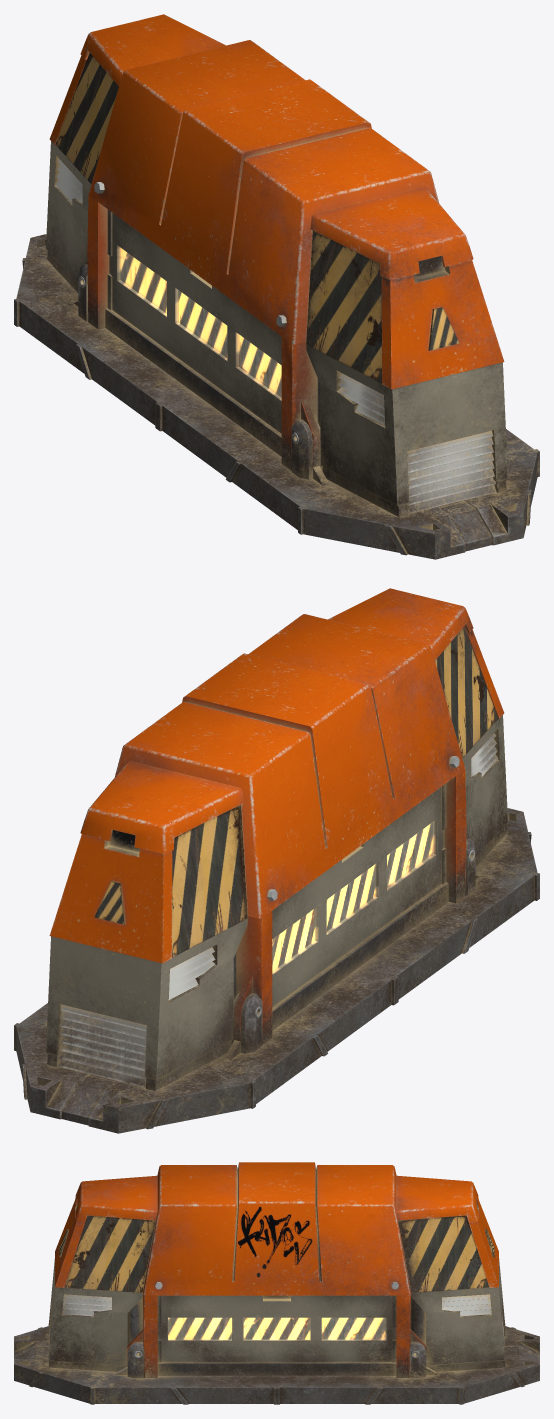
3 views of the same model, one above another, from view 1: azimuth 30°, elevation 25°; view 2: azimuth 150°, elevation 25°; view 3: azimuth 270°, elevation 25° (orthographic). The views are drawn at different scales.
Parts seen in each view (by area): view 1: Block; view 2: Block; view 3: Block.
Boxes of the visible parts, <box> form: Block: <box>14,14,539,559</box>; Block: <box>14,588,539,1133</box>; Block: <box>14,1162,539,1404</box>.
Bounding box in the file's own units: 0.6812 × 0.776 × 2.
